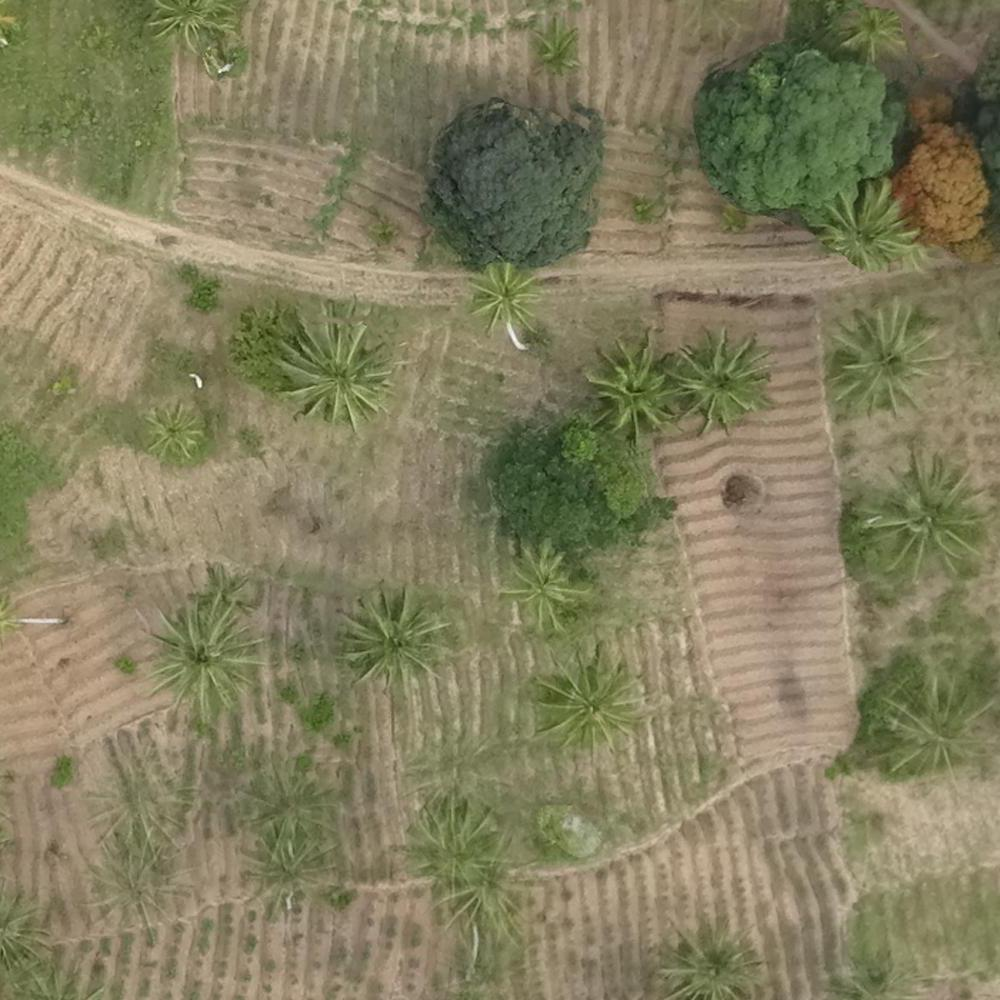Palm: (279, 304, 395, 426), (868, 450, 981, 572), (336, 582, 453, 693), (149, 597, 257, 710), (836, 296, 936, 411), (887, 668, 982, 778), (533, 652, 638, 749), (675, 323, 771, 422), (500, 536, 592, 630), (584, 334, 675, 428), (660, 919, 768, 998), (825, 181, 918, 269), (471, 259, 546, 328), (138, 397, 202, 459), (840, 4, 905, 62)
